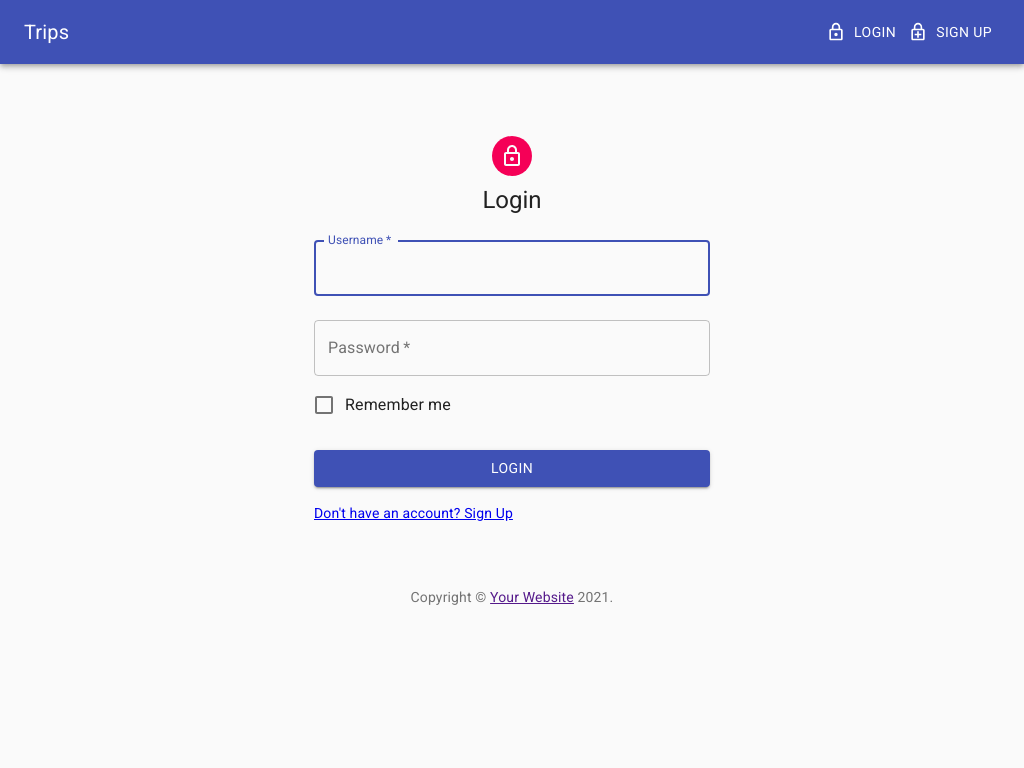
Test: Login › should show an error when logged in with wrong credentials
Type "hello" into the field with id "username".
click(512, 268); type("hello")  # box x1=314 y1=240 x2=710 y2=296
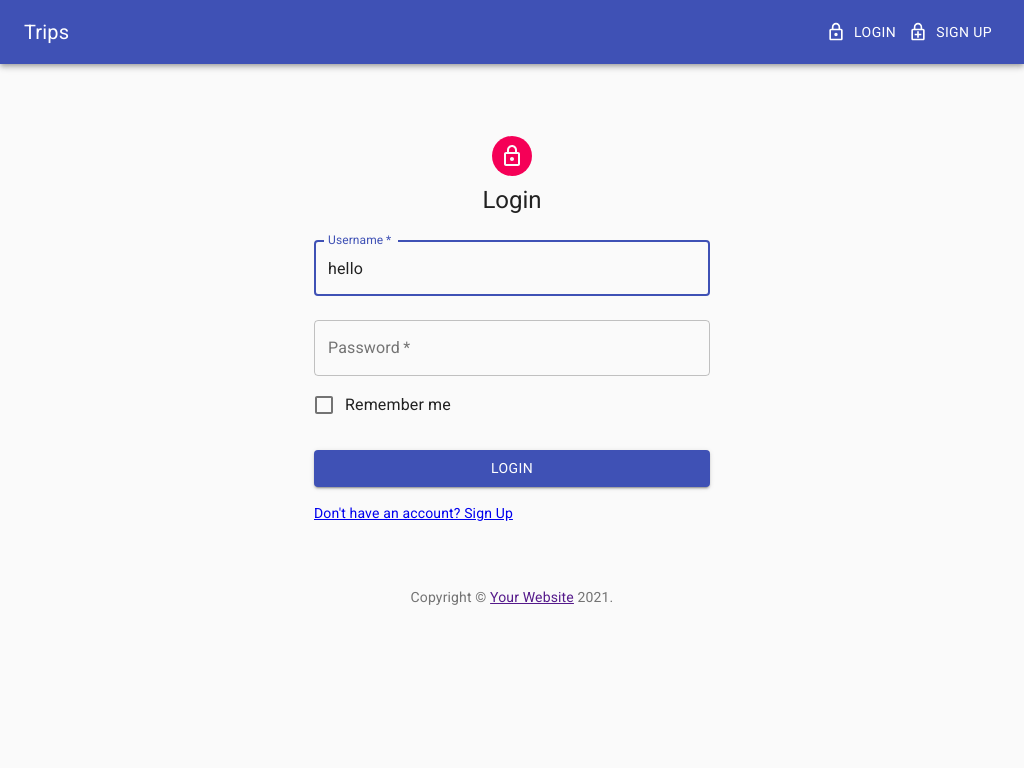
Type "hello" into the password field labelled "Password *".
click(512, 348); type("hello")  # box x1=314 y1=320 x2=710 y2=376
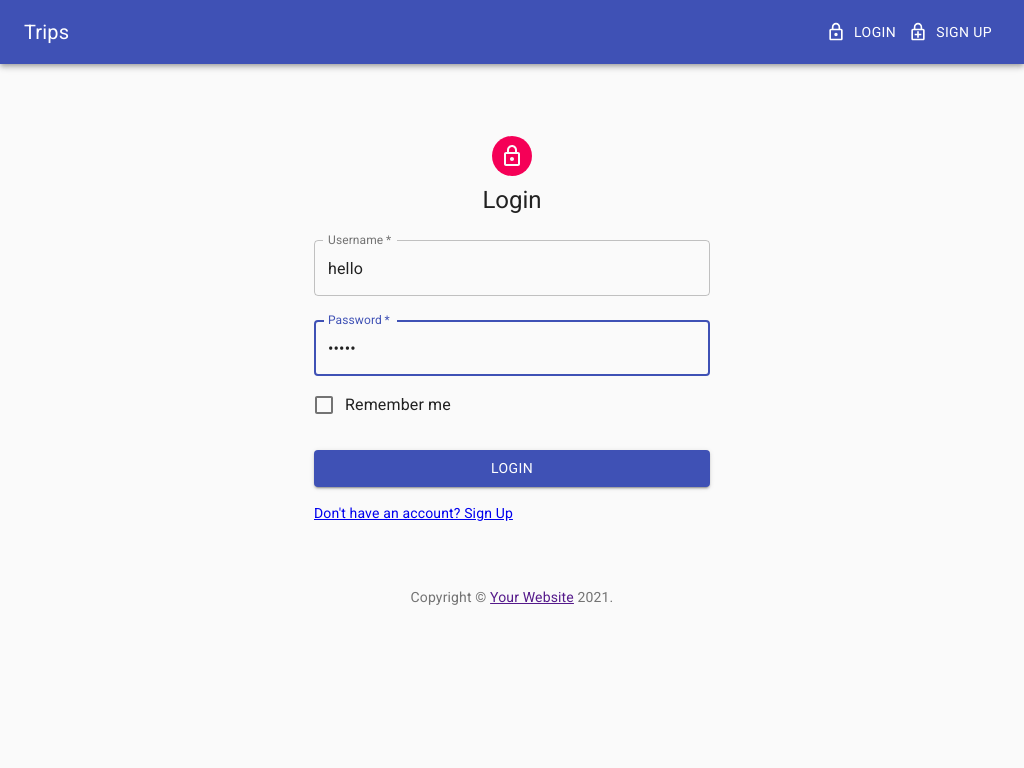
Click the button "Login" below "Remember me".
click(512, 469)  # box x1=314 y1=450 x2=710 y2=487
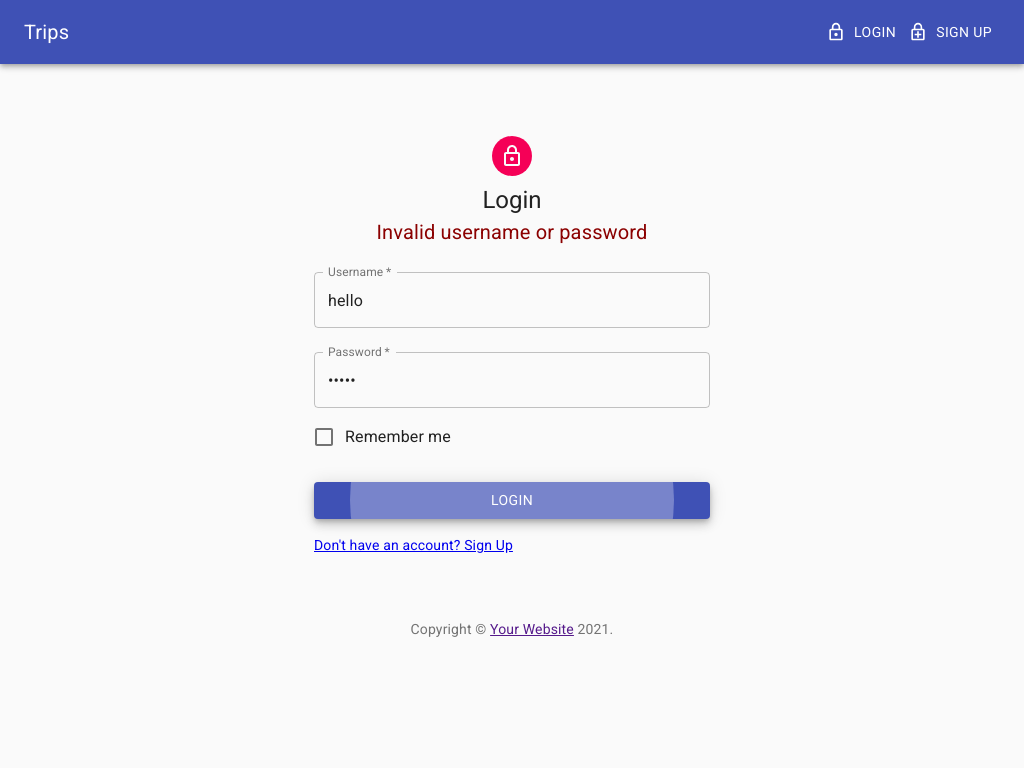
Now the heading "Invalid username or password" is shown, box x1=376 y1=216 x2=648 y2=248
